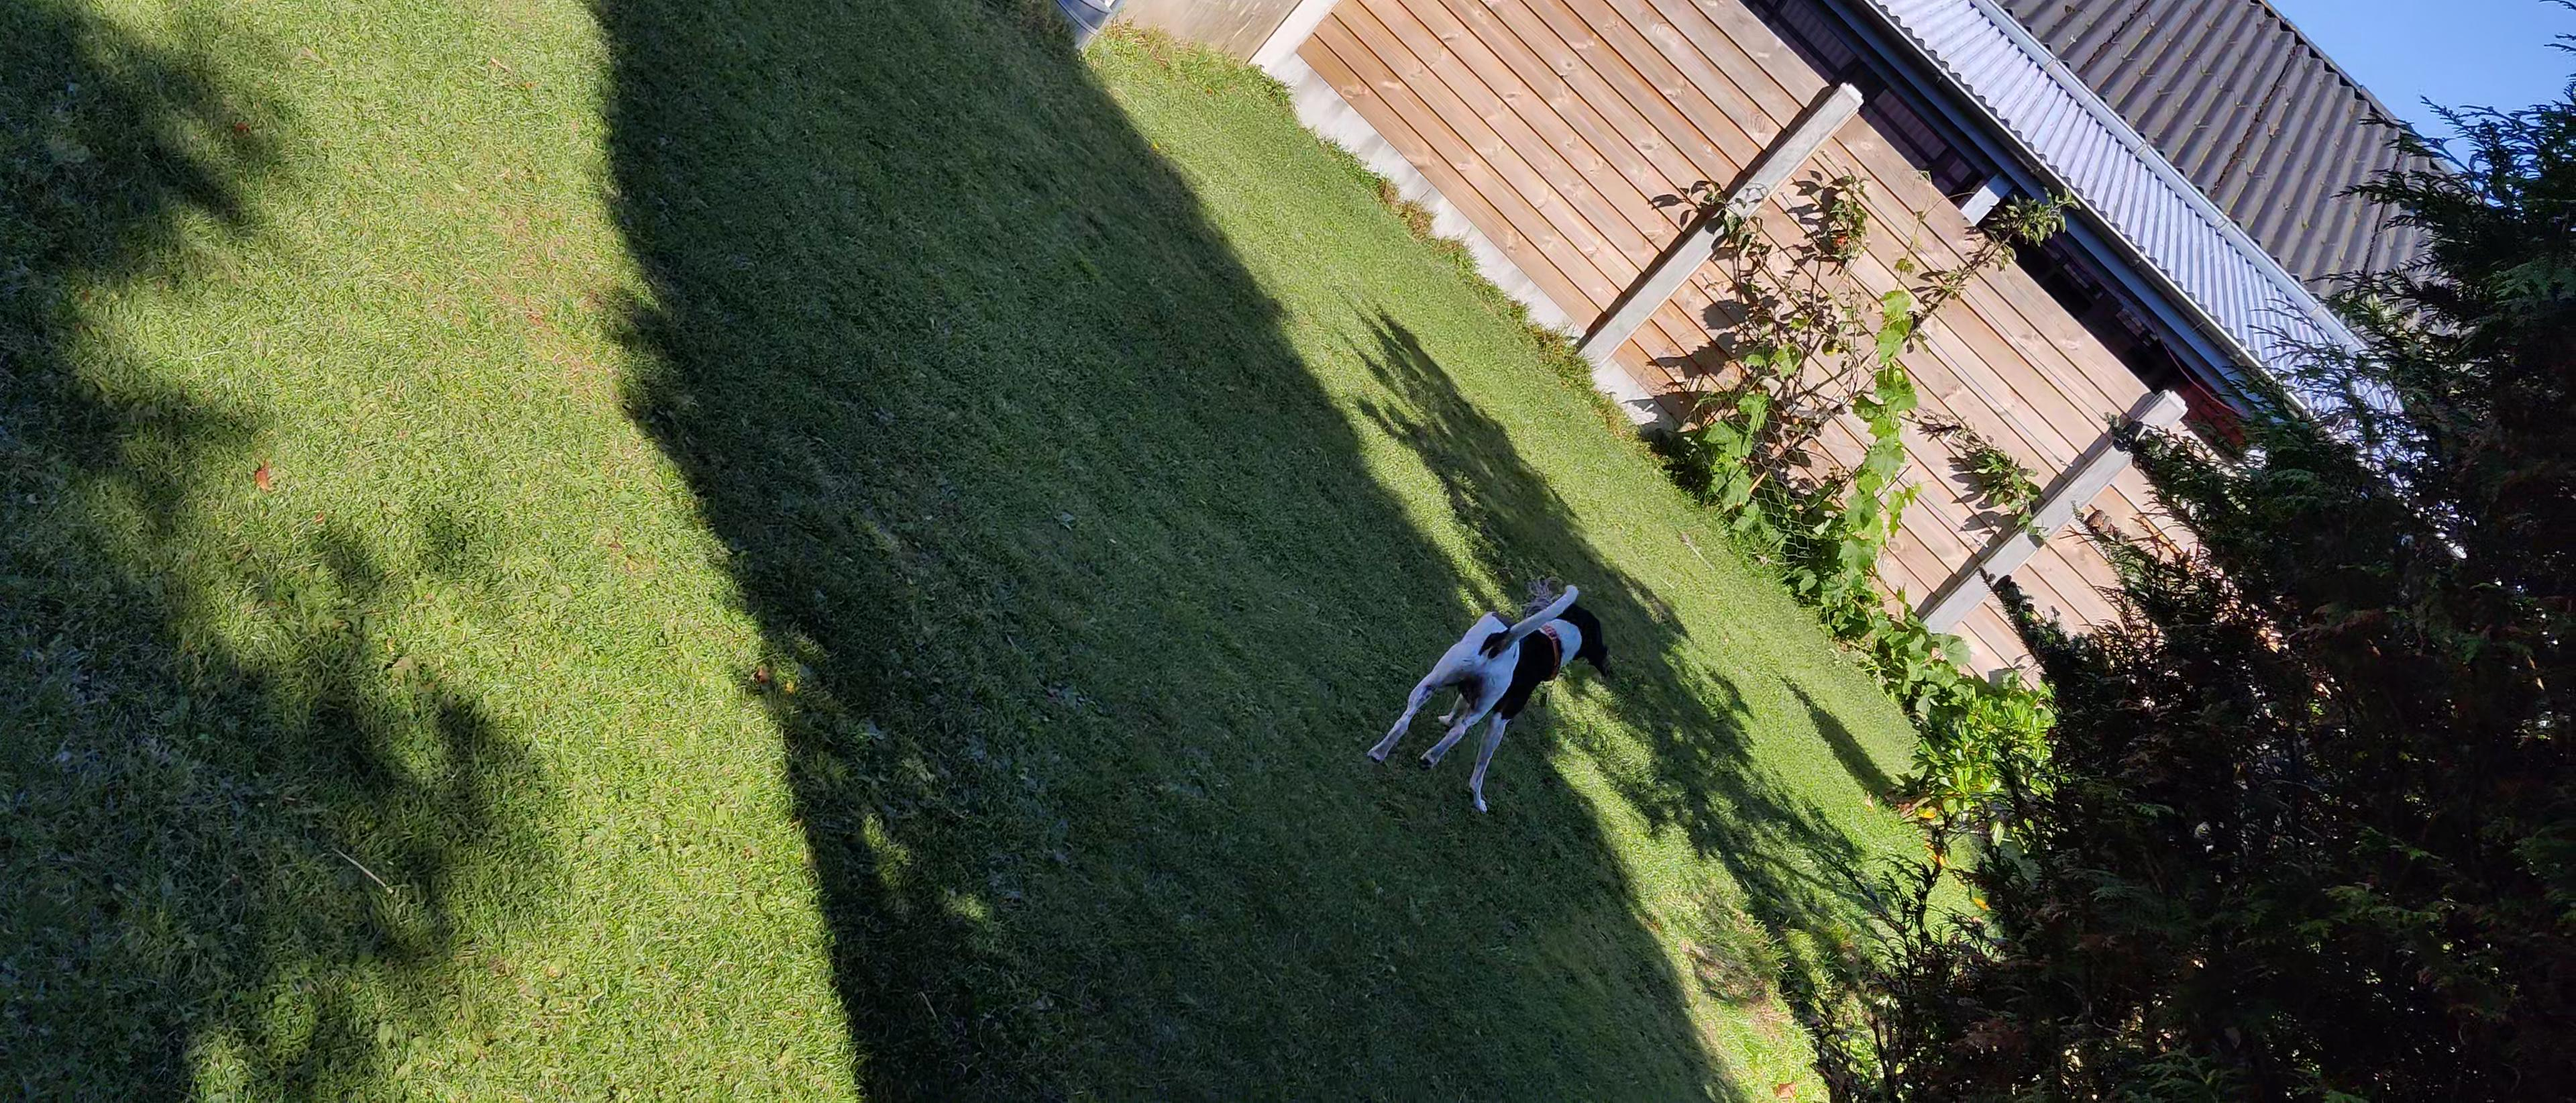Dog: (1360, 577, 1610, 814)
